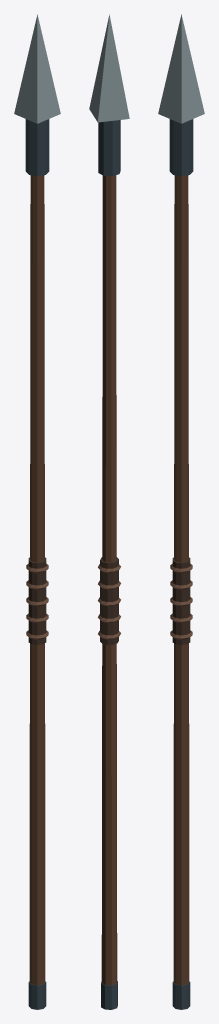
File: pike.glb
3 views of the same model, side by side, from view 1: azimuth 90°, elevation 25°; view 2: azimuth 150°, elevation 25°; view 3: azimuth 270°, elevation 25° (orthographic).
Visible parts, largest first — view 1: nth_equi_pike; view 2: nth_equi_pike; view 3: nth_equi_pike.
Boxes of the visible parts, box(x1,y1,x2,y2) form: nth_equi_pike: box(14, 14, 60, 1009); nth_equi_pike: box(89, 14, 129, 1009); nth_equi_pike: box(158, 14, 204, 1009).
Bounding box in the file's own units: 0.14 × 3.28 × 0.14.
